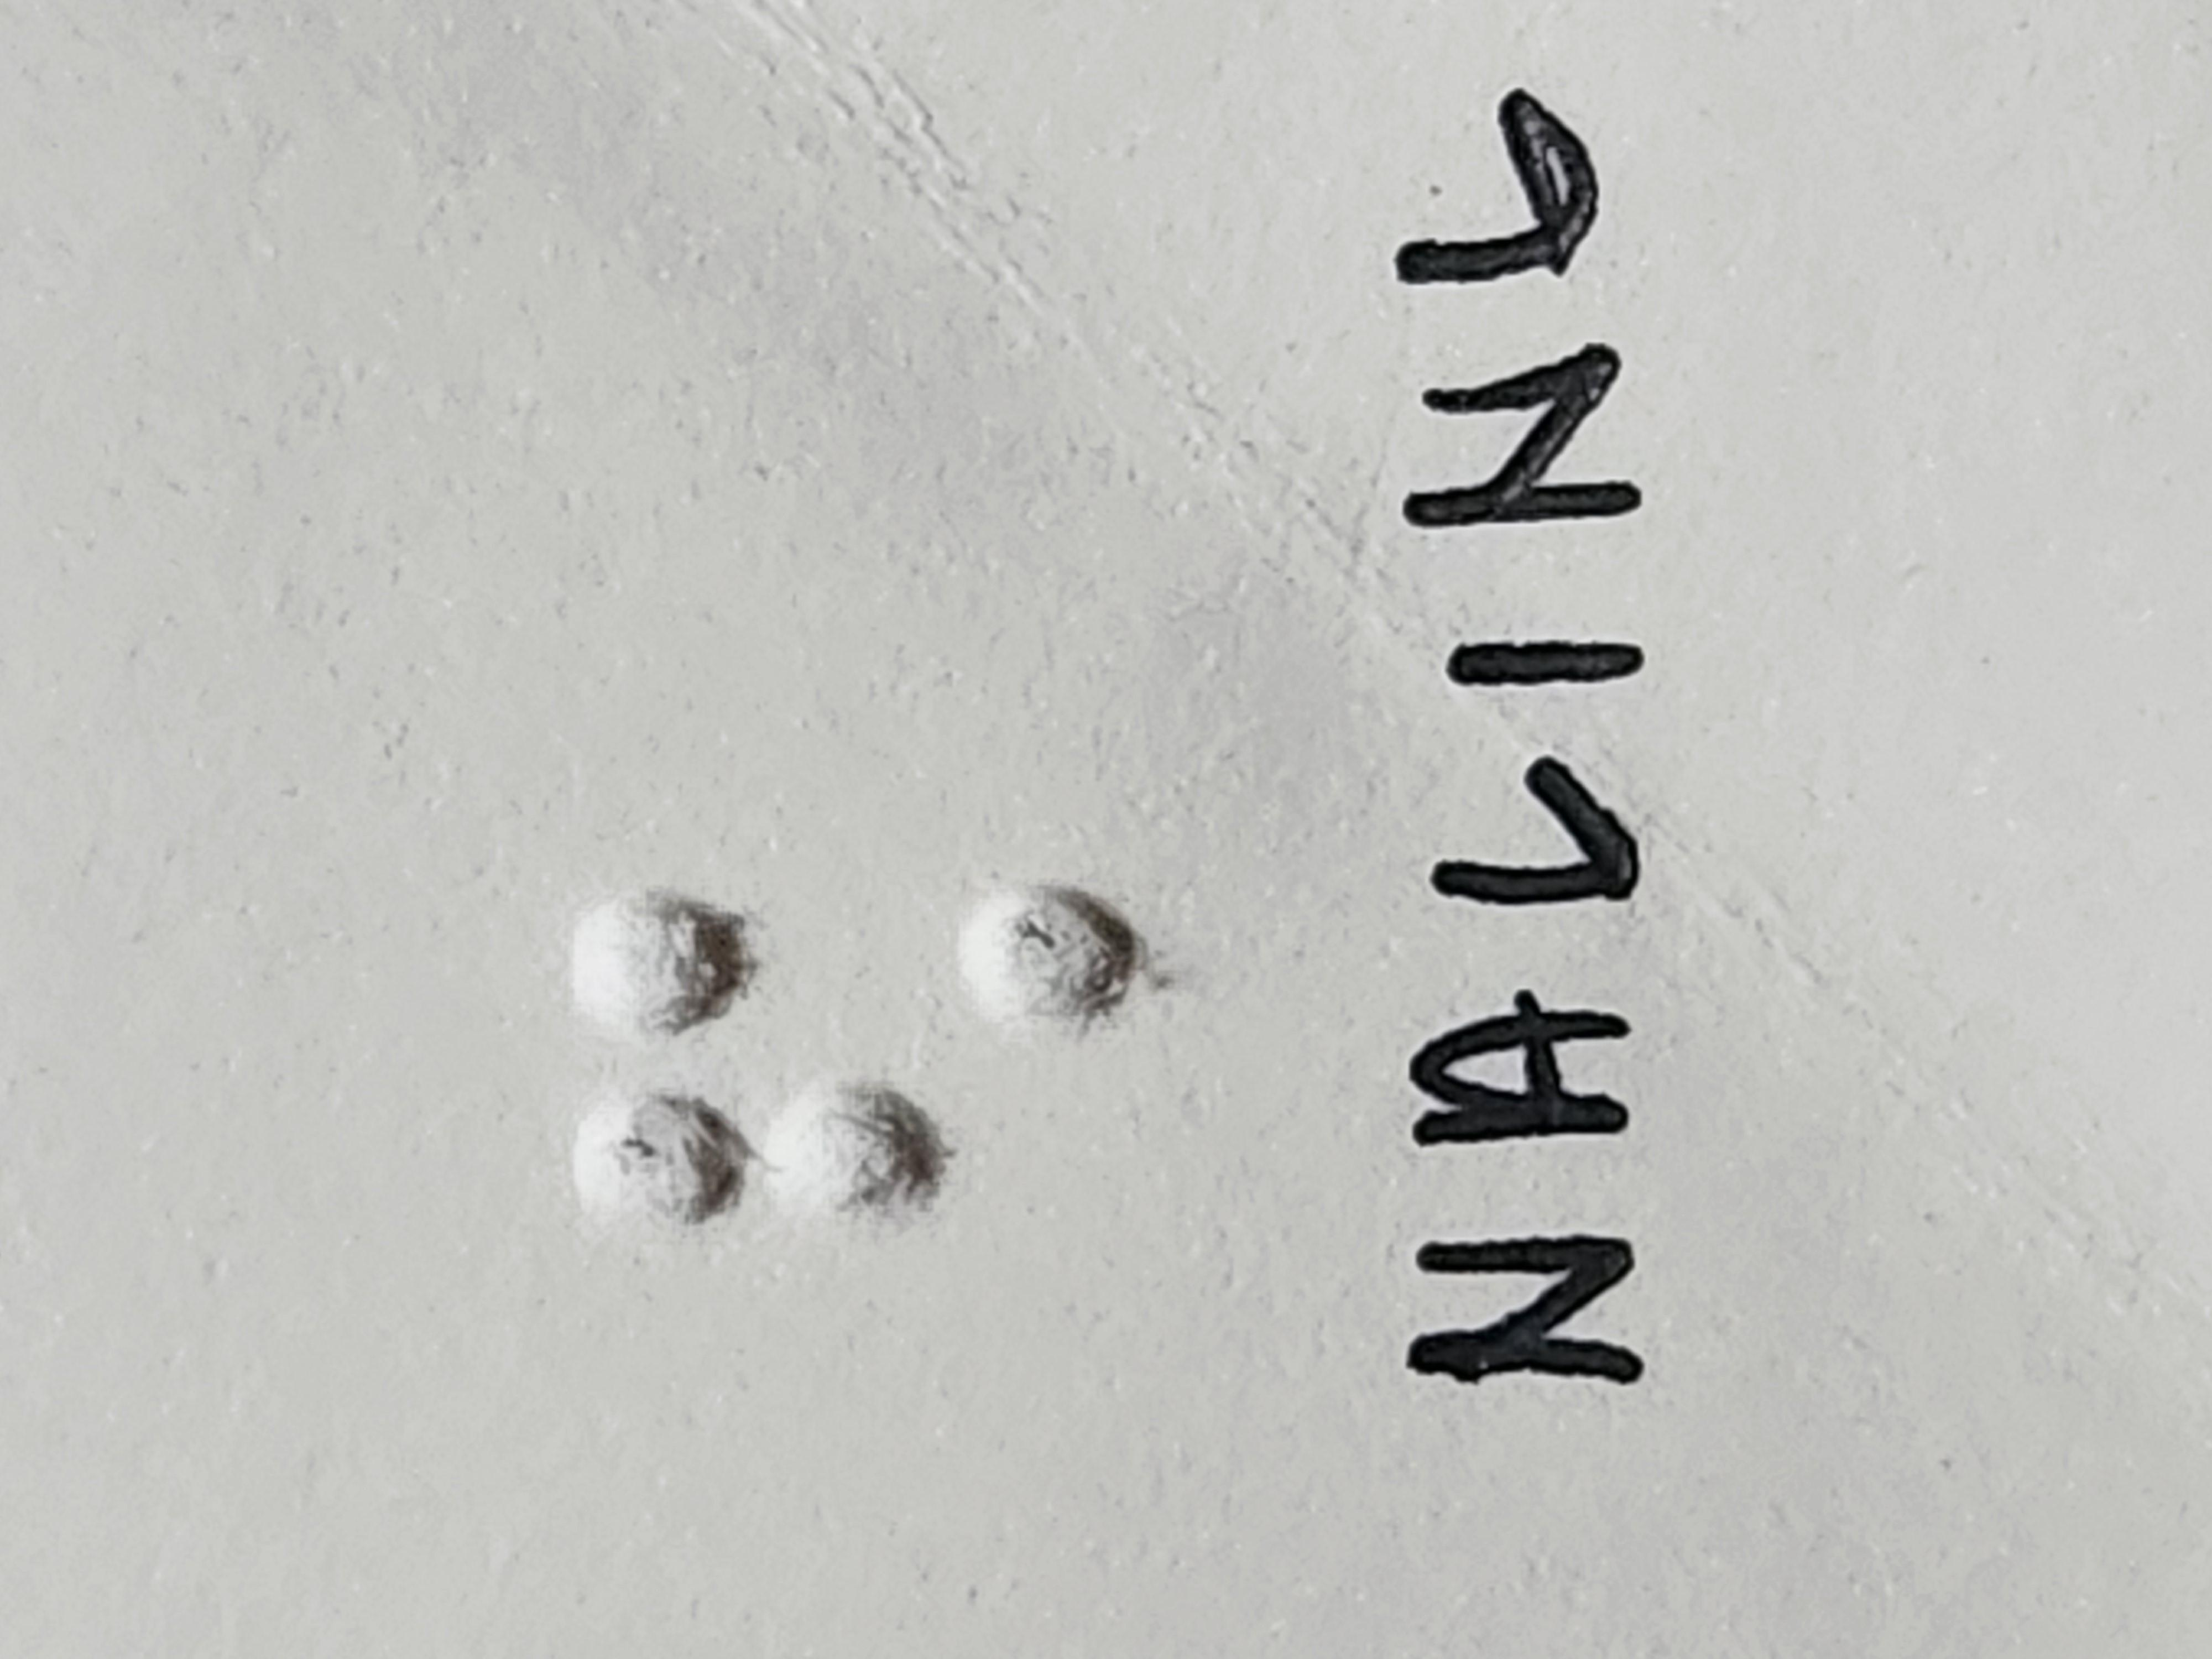one_cell_non_alphabet_naging: (583, 429, 1033, 849)
